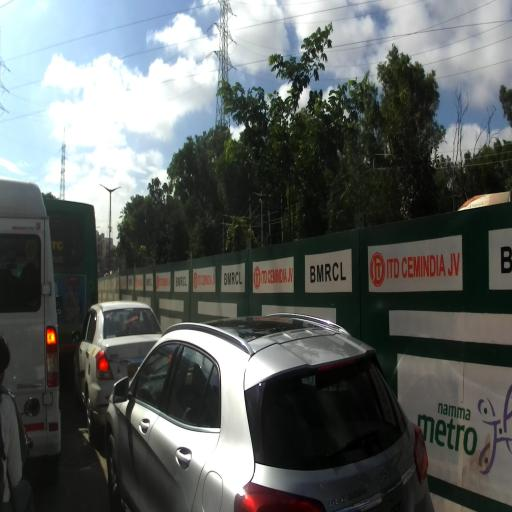street_light_0: (99, 184, 111, 195), (110, 186, 121, 196), (96, 226, 100, 229)
